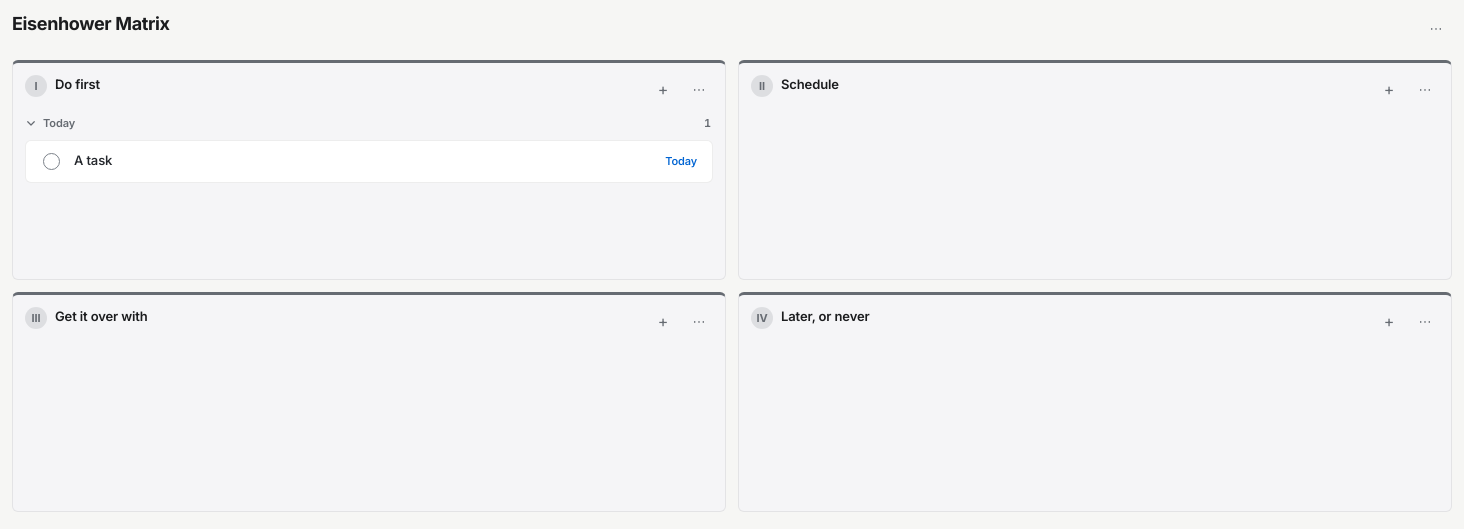
the box's ⋯ menu › offers no priority sort
Click the button with class "ff-matrix-cell-menu" in the row of "Do first" at (699, 89), box [685,75,713,103]
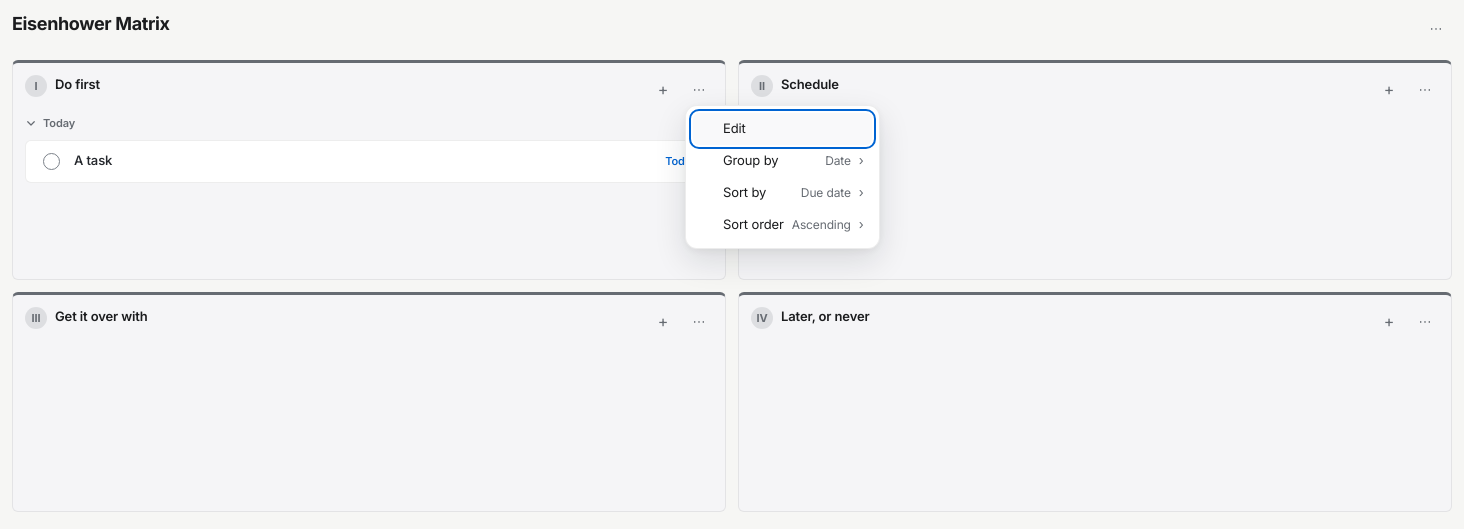
Click the menu item "Sort by Due date ›" at (782, 193), box [693,177,872,209]
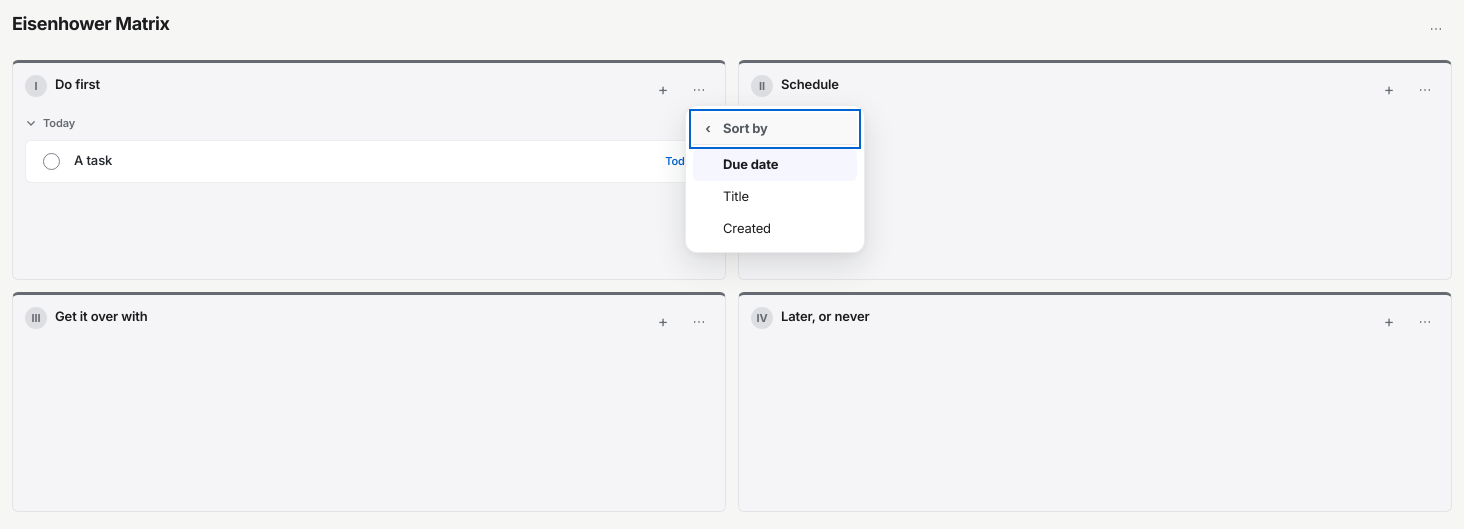
Result: the menu item "Title" is shown at [693,181,857,213]
